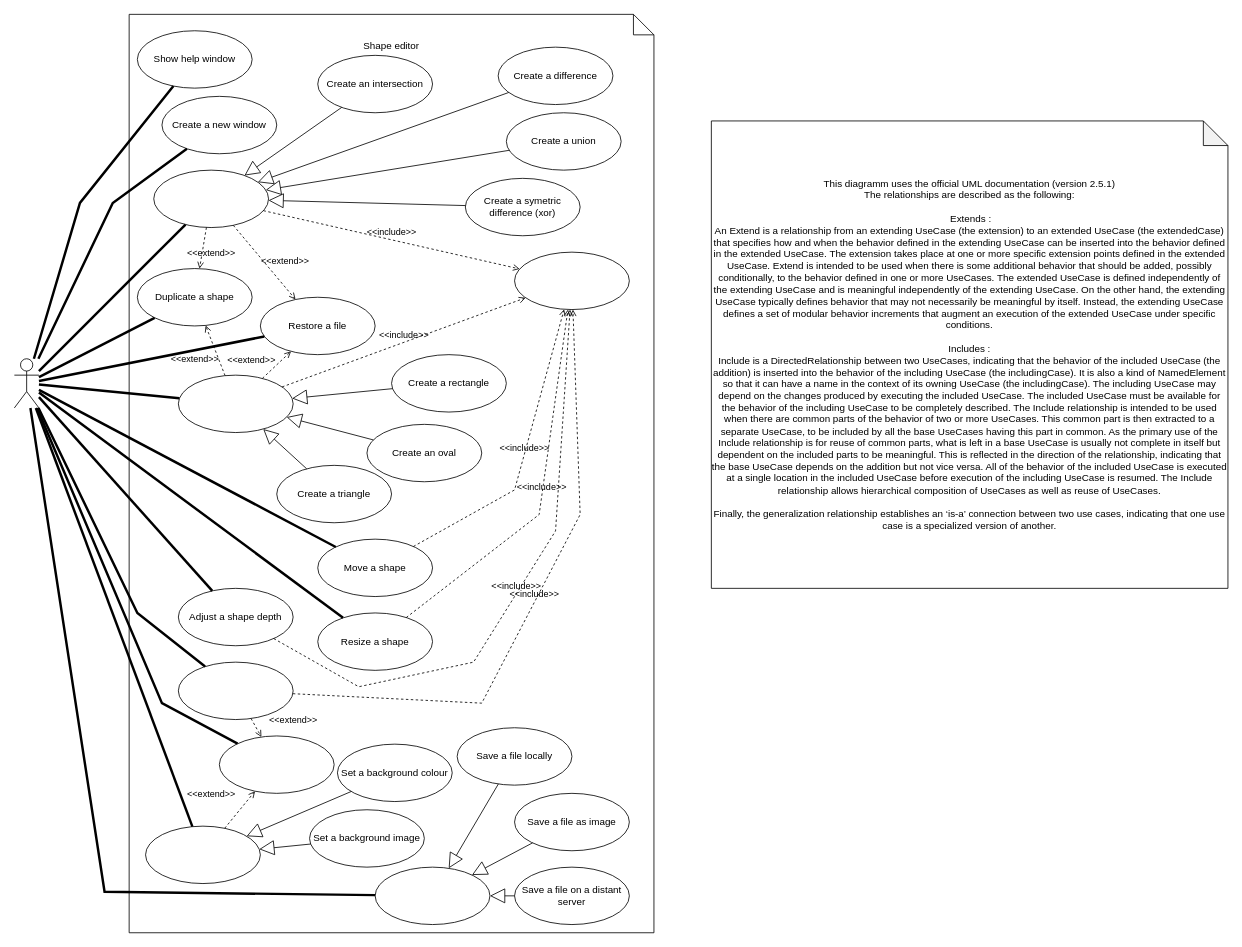
Image size: 1242x947. Some labels were removed from this diagram. Here are the shapes that lost their labels. From the top down, the centre of each, then its label:
At [211,198]: "Create a complex shape".
At [571,280]: "Draw a shape".
At [26,383]: "User".
At [235,403]: "Create a simple shape".
At [235,690]: "Delete a shape".
At [276,764]: "Create a new canvas".
At [202,854]: "Change background".
At [432,895]: "Save a file".
